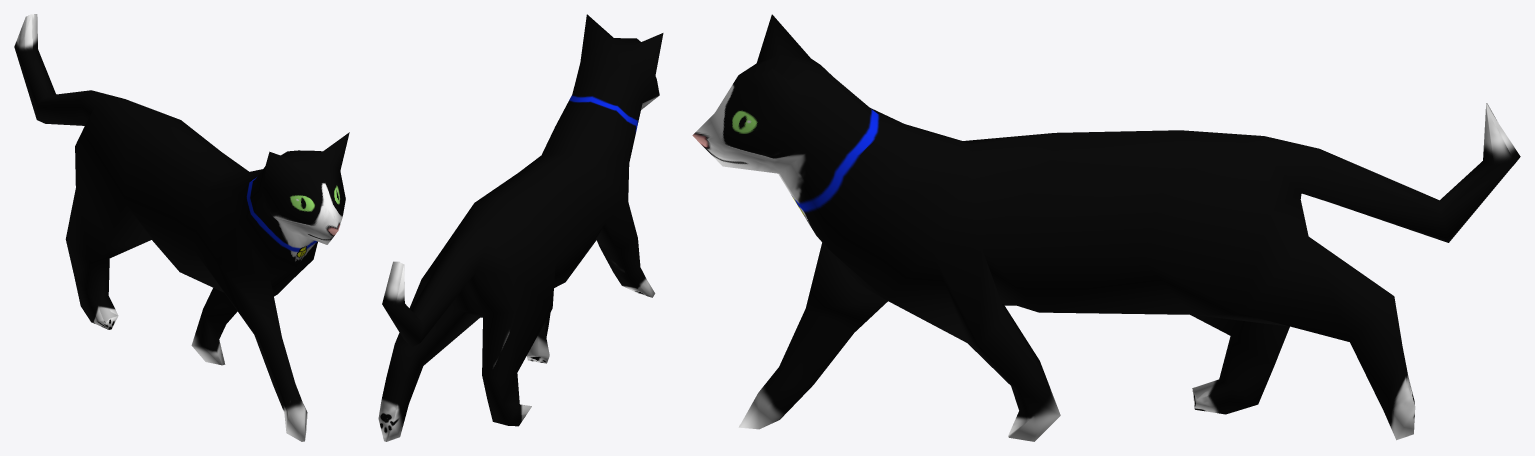
The model's file is PishiModel.fbx.
3 renders of one model, left to right at view 1: azimuth 30°, elevation 25°; view 2: azimuth 150°, elevation 25°; view 3: azimuth 270°, elevation 25°, orthographic. The views are drawn at different scales.
Visible parts, largest first — view 1: ORIGAMI_Chat; view 2: ORIGAMI_Chat; view 3: ORIGAMI_Chat.
Part boxes in pixels (<box>): ORIGAMI_Chat: <box>14,14,349,441</box>; ORIGAMI_Chat: <box>378,14,663,441</box>; ORIGAMI_Chat: <box>692,14,1520,441</box>.
Size of the model in its own units: 63.78 by 172 by 324.
Materials: 1 (1 with a texture image).
